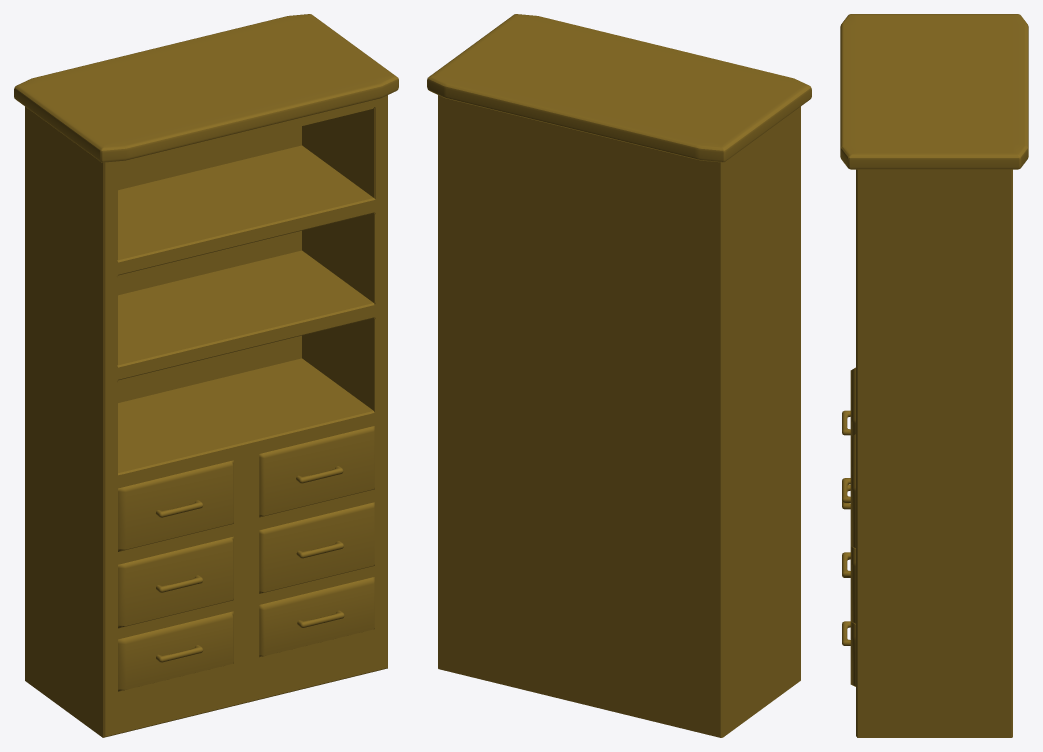
Rendered from geo_armoireUV3.fbx.
3 renders of one model, left to right at view 1: azimuth 30°, elevation 25°; view 2: azimuth 150°, elevation 25°; view 3: azimuth 270°, elevation 25°, orthographic.
Parts seen in each view (by area): view 1: armoire, poignees; view 2: armoire; view 3: armoire, poignees.
Part boxes in pixels (bbox=[...]): armoire: bbox=[14, 14, 398, 737]; poignees: bbox=[156, 466, 344, 662]; armoire: bbox=[427, 14, 811, 737]; armoire: bbox=[840, 14, 1028, 737]; poignees: bbox=[842, 410, 850, 645].
Size of the model in its own units: 9.53 by 18.09 by 5.27.
